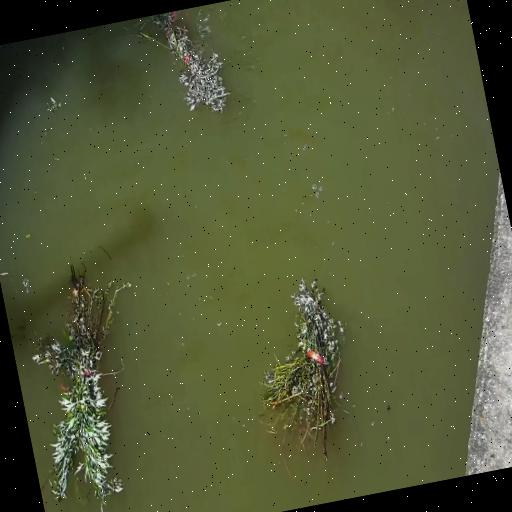twig: (4, 249, 170, 512), (236, 268, 370, 474), (124, 4, 238, 128), (373, 0, 460, 15)
